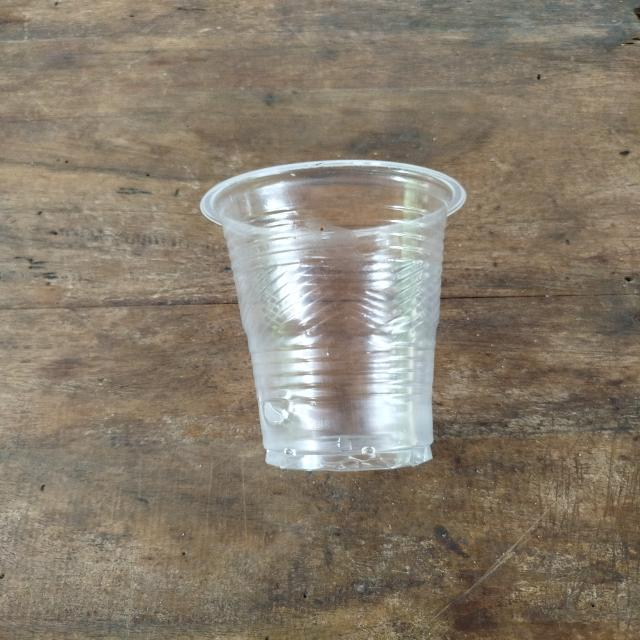plastic: (184, 146, 523, 485)
